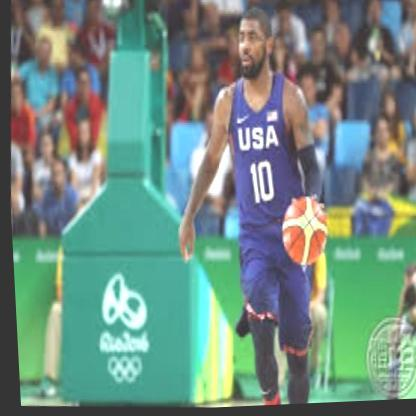basketball: (277, 197, 327, 267)
